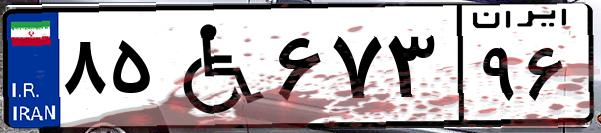3: (385, 28, 445, 110)
5: (110, 28, 158, 98)
6: (270, 28, 330, 110), (525, 38, 570, 115)
7: (330, 28, 385, 110)
8: (57, 26, 110, 100)
9: (475, 38, 525, 113)
ژ (معلولین و جانبازان): (158, 12, 270, 120)
